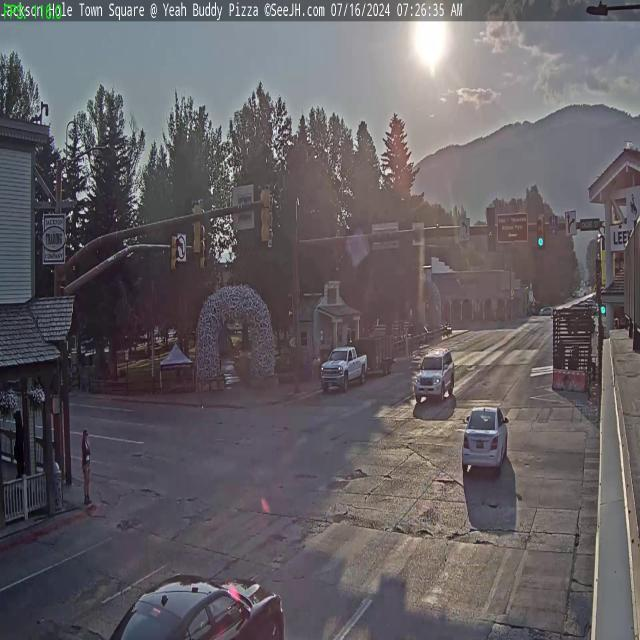person: (80, 426, 90, 506)
pickup: (319, 342, 367, 394)
sedan: (94, 568, 288, 640), (461, 402, 510, 475)
suv: (412, 350, 458, 404)
traffic light: (260, 185, 273, 245), (190, 198, 203, 254), (486, 206, 497, 251), (170, 232, 180, 276), (536, 214, 546, 248)
